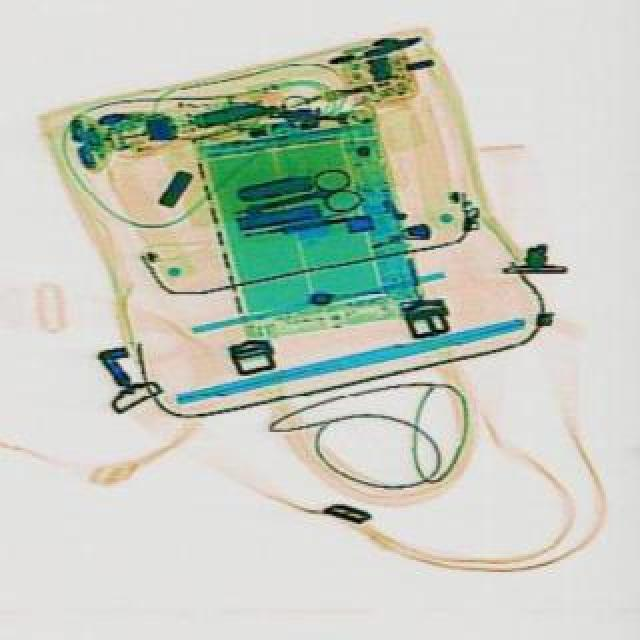pliers: (236, 162, 368, 234)
